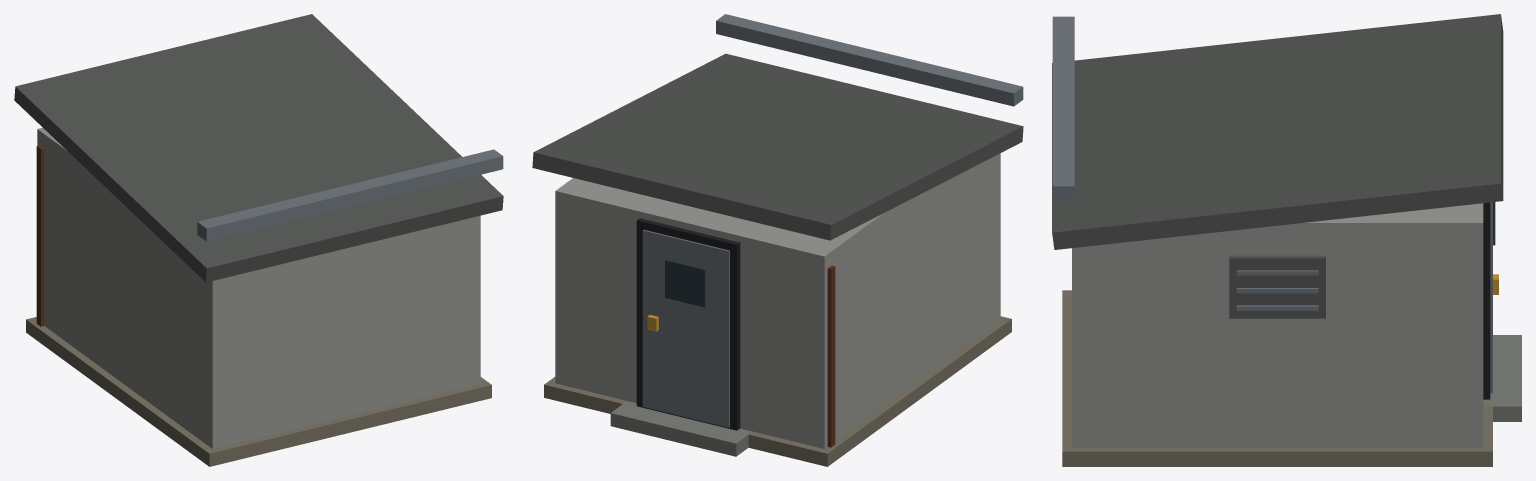
Rendered from roof_stair_hut.glb.
3 renders of one model, left to right at view 1: azimuth 30°, elevation 25°; view 2: azimuth 150°, elevation 25°; view 3: azimuth 270°, elevation 25°, orthographic. The views are drawn at different scales.
Visible parts, largest first — view 1: roof_stair_hut; view 2: roof_stair_hut; view 3: roof_stair_hut.
Part boxes in pixels (left/top/right/bottom): roof_stair_hut: left=14, top=14, right=503, bottom=466; roof_stair_hut: left=532, top=14, right=1023, bottom=466; roof_stair_hut: left=1052, top=14, right=1521, bottom=466.
Size of the model in its own units: 3.32 by 2.62 by 3.89.
2 materials, 2 textured.
